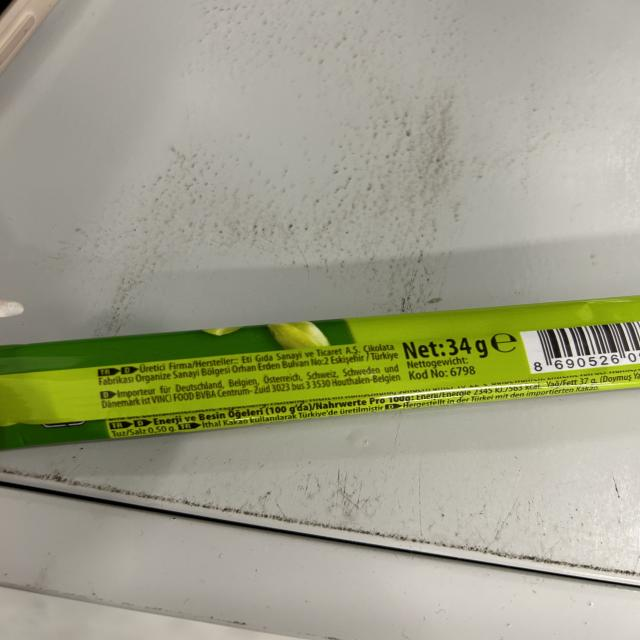object_name: (0, 335, 640, 399)
